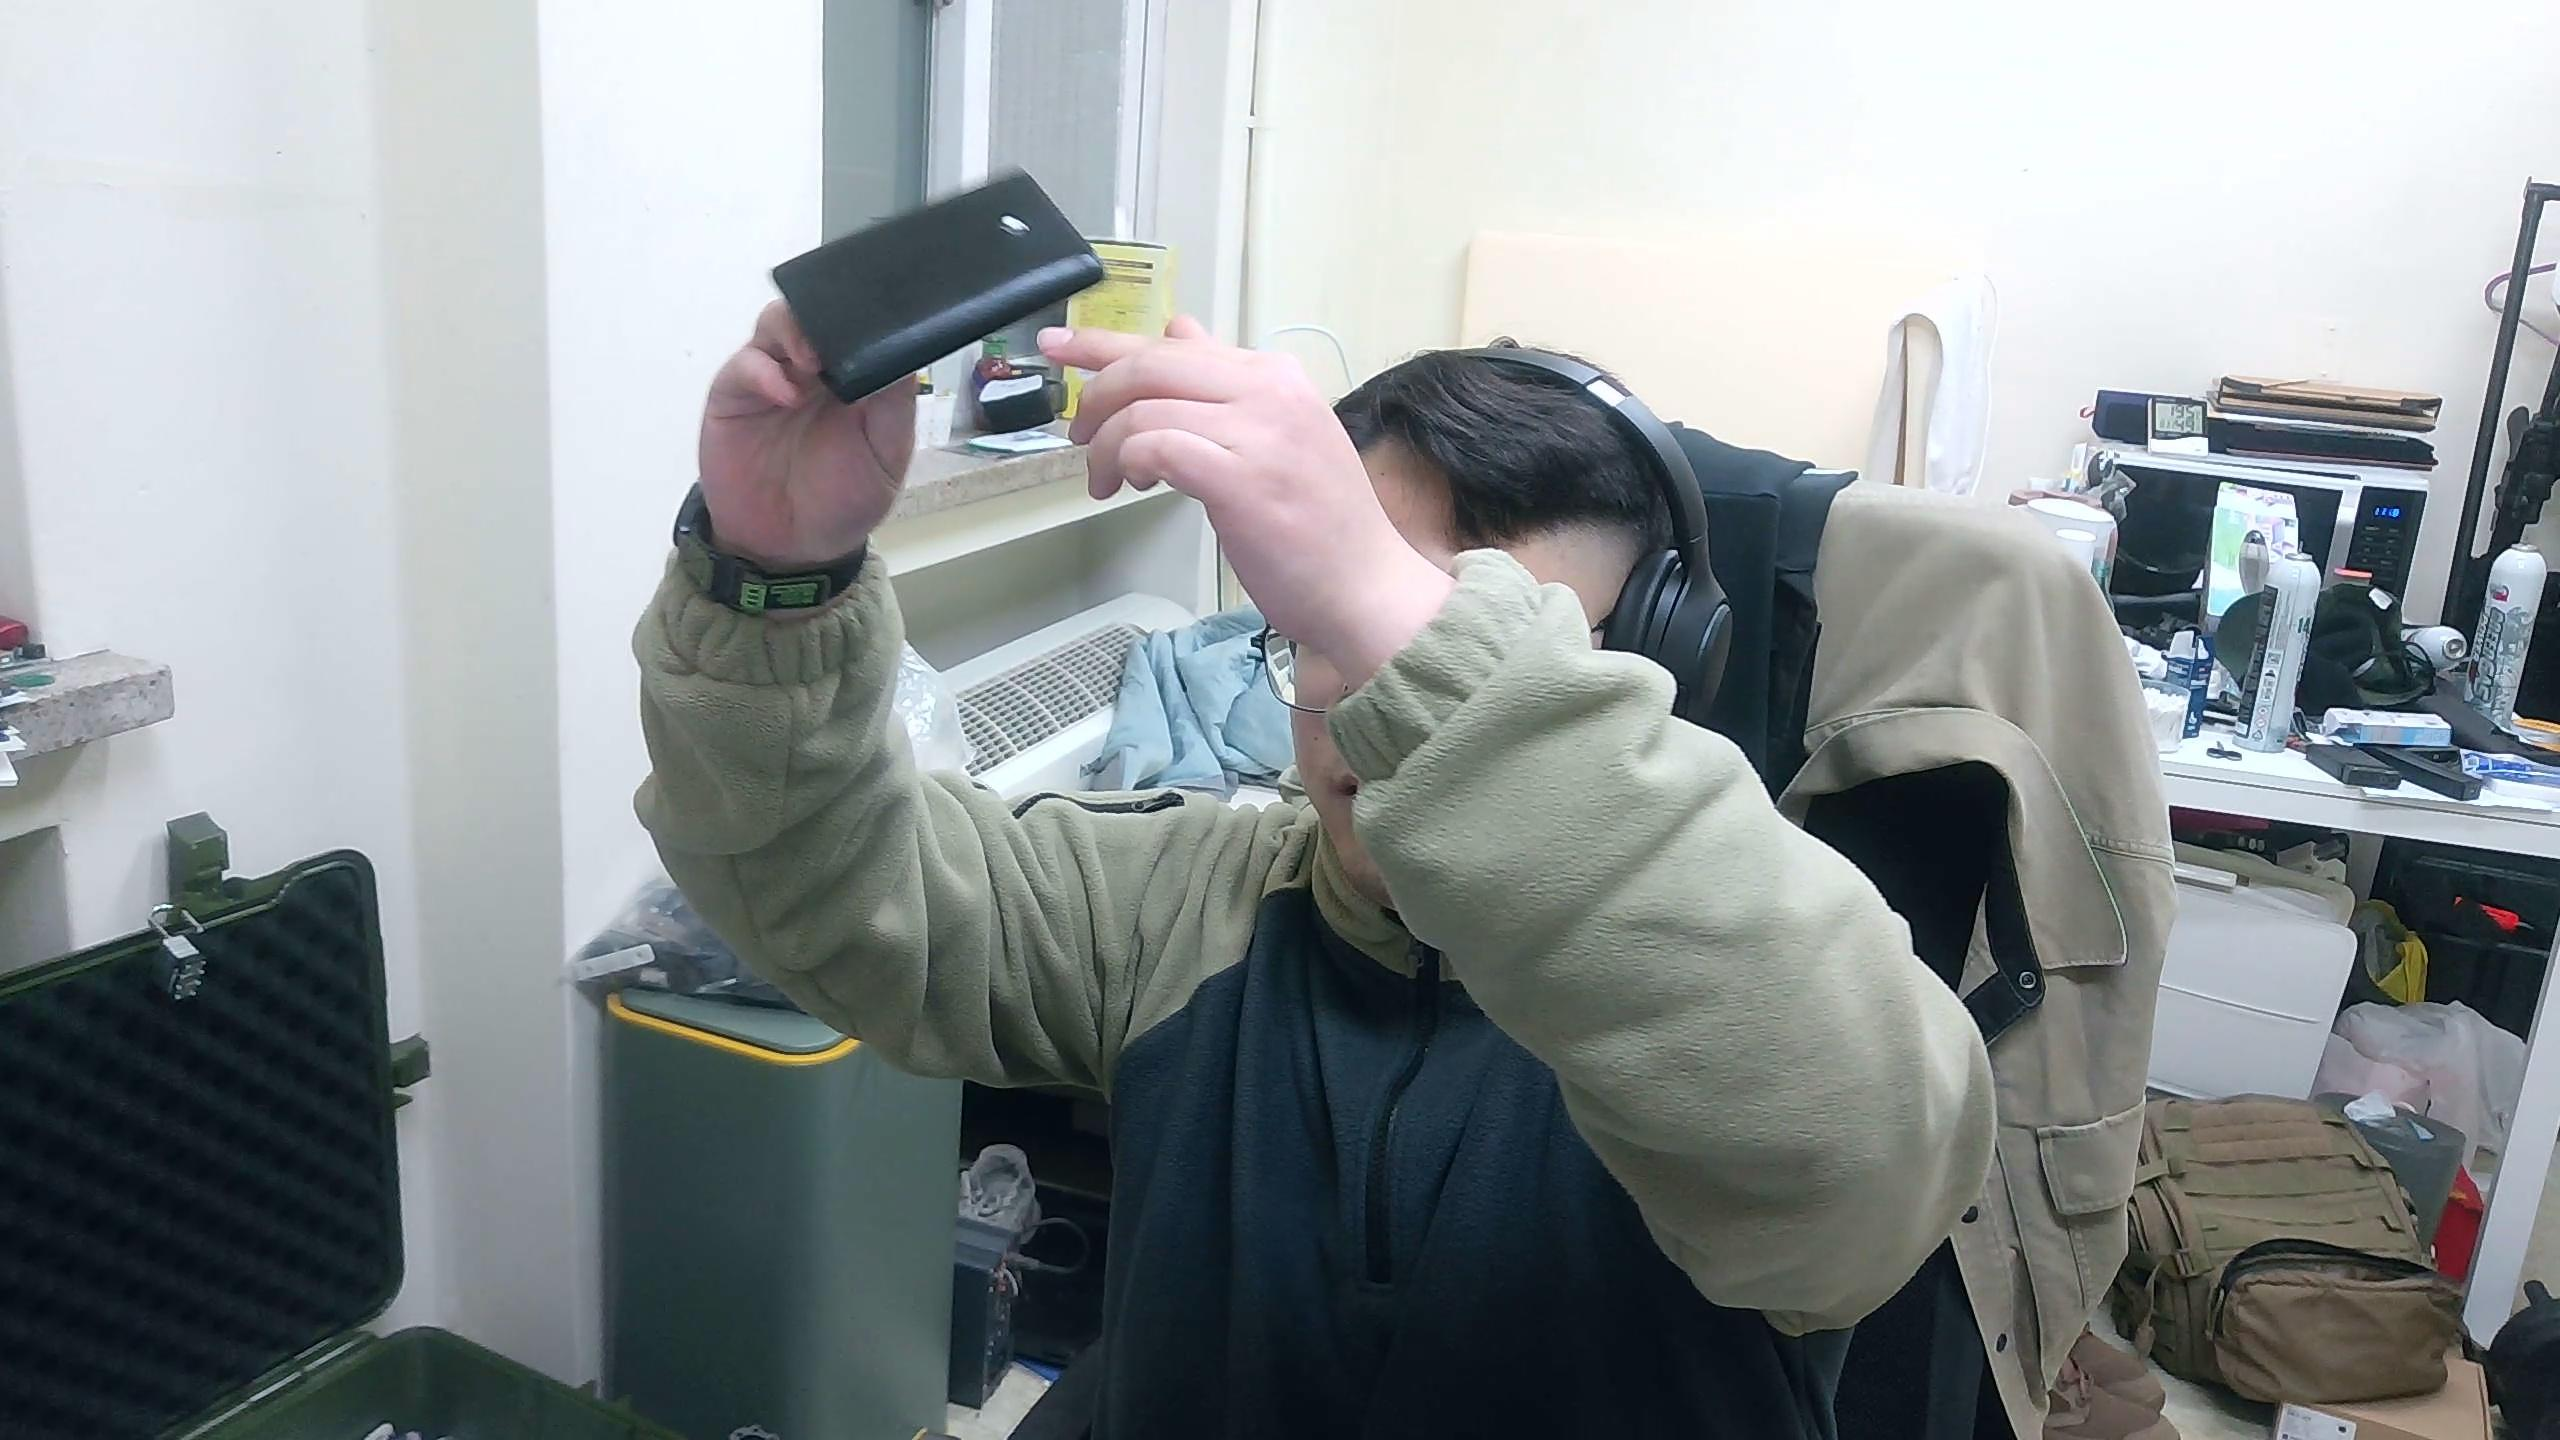earphone: (770, 164, 1108, 406)
